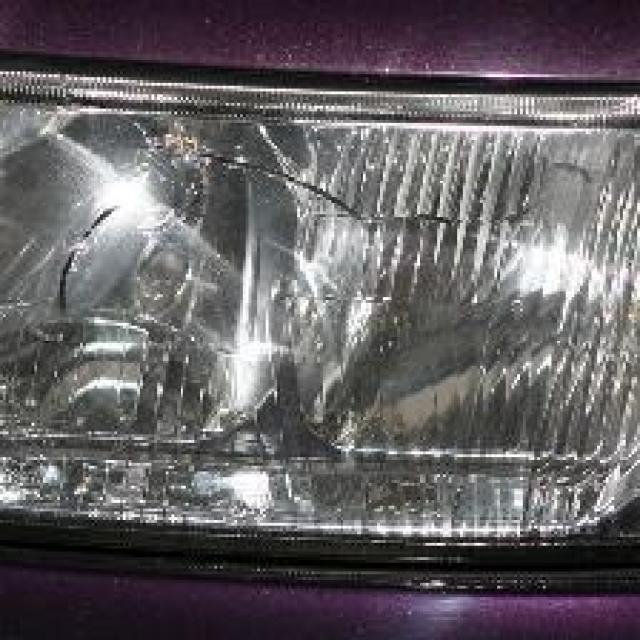damaged: (6, 111, 523, 548)
